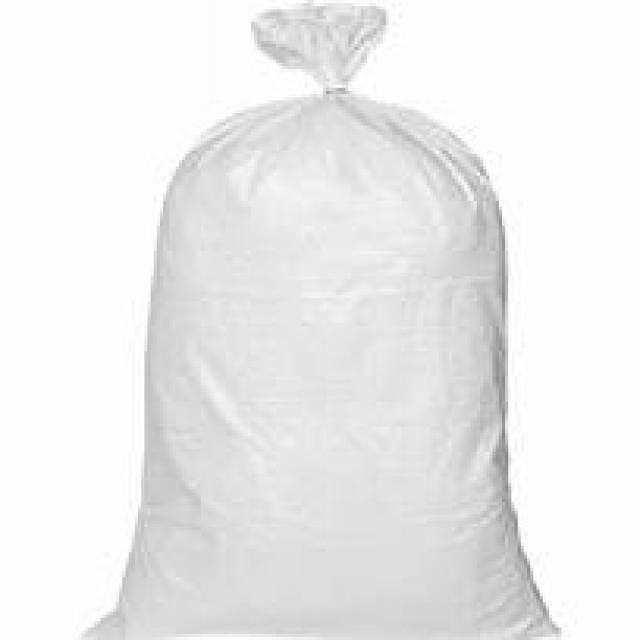gunny_bag: (71, 0, 576, 640)
